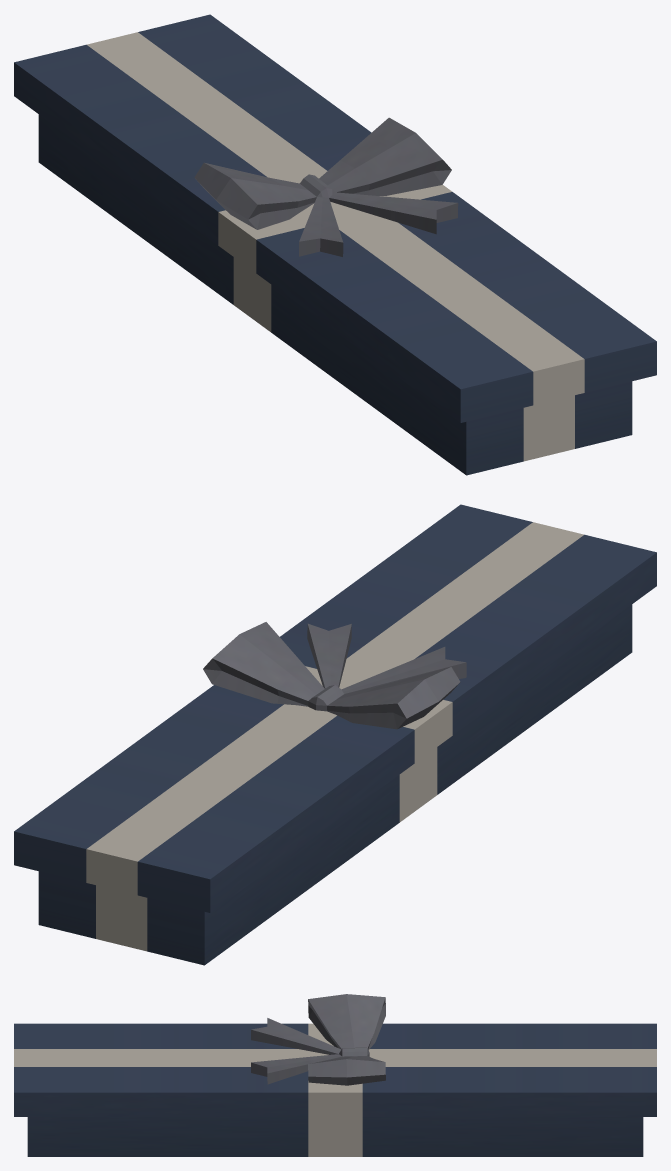
Rendered from gift_box_C_Long.obj.
The picture shows the model from 3 angles, top to bottom: view 1: azimuth 30°, elevation 25°; view 2: azimuth 150°, elevation 25°; view 3: azimuth 270°, elevation 25°; orthographic projection. The views are drawn at different scales.
Parts seen in each view (by area): view 1: gift_box_C_Long; view 2: gift_box_C_Long; view 3: gift_box_C_Long.
Part boxes in pixels (box(x1,y1,x2,y2)): gift_box_C_Long: box(14, 14, 656, 475); gift_box_C_Long: box(14, 504, 656, 965); gift_box_C_Long: box(14, 994, 656, 1156).
Bounding box in the file's own units: 0.3032 × 0.1874 × 1.09.
